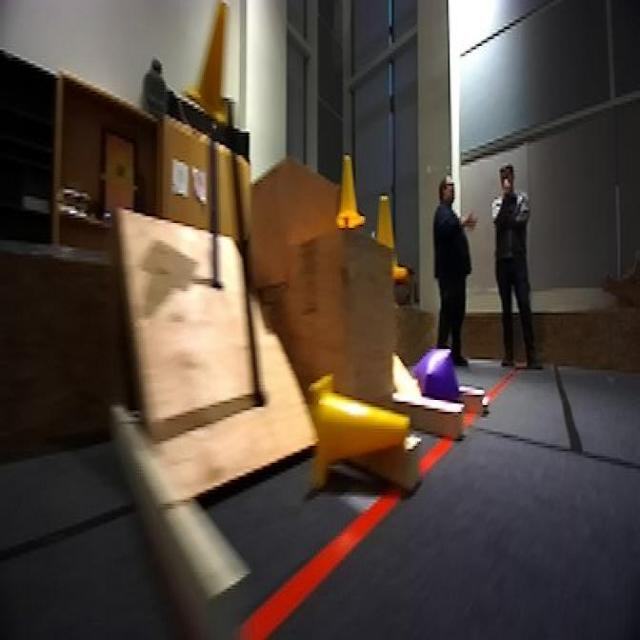frc_cone: (307, 370, 412, 490), (186, 2, 243, 121), (368, 192, 406, 284), (332, 155, 364, 228)
frc_cube: (414, 346, 465, 416)
